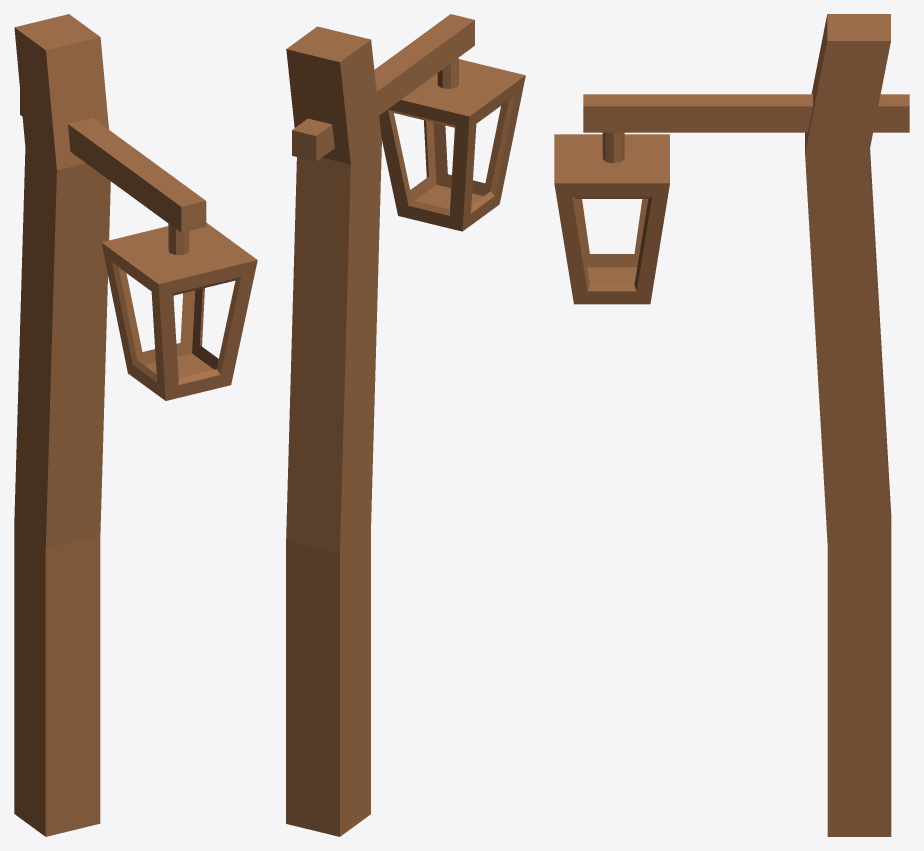
File: blocking_luminaire.fbx
3 renders of one model, left to right at view 1: azimuth 30°, elevation 25°; view 2: azimuth 150°, elevation 25°; view 3: azimuth 270°, elevation 25°, orthographic. The views are drawn at different scales.
Visible parts, largest first — view 1: blocking_luminaire; view 2: blocking_luminaire; view 3: blocking_luminaire.
Boxes of the visible parts, bbox=[...] form: blocking_luminaire: bbox=[14, 14, 257, 836]; blocking_luminaire: bbox=[286, 14, 525, 836]; blocking_luminaire: bbox=[554, 14, 909, 836].
Bounding box in the file's own units: 58.9 × 447 × 181.
